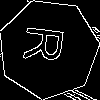R: (23, 24, 73, 66)
